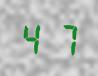four: (19, 18, 47, 55)
seven: (48, 19, 76, 56)
